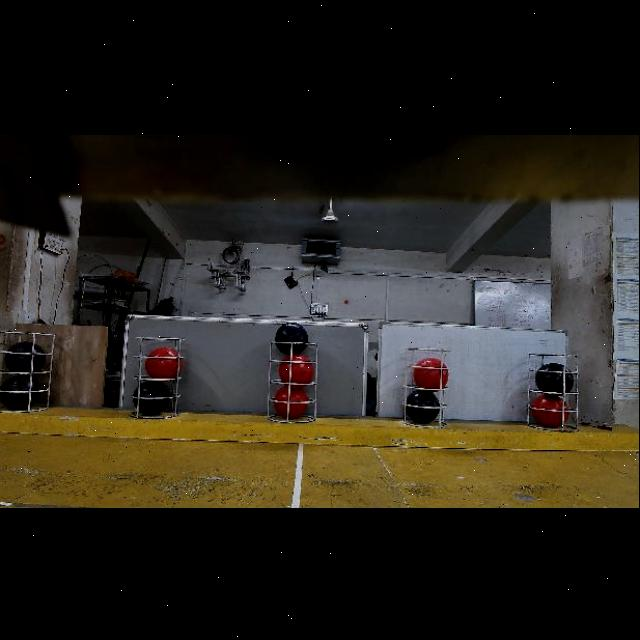P: (0, 374, 41, 411), (133, 379, 172, 416), (4, 341, 46, 373), (536, 363, 576, 393), (407, 390, 441, 424), (276, 321, 308, 354)
R: (532, 394, 571, 429), (414, 357, 450, 389), (145, 347, 182, 378), (278, 352, 314, 383), (275, 386, 308, 418)
S: (0, 330, 58, 408), (266, 341, 320, 422), (130, 338, 182, 422), (526, 354, 580, 430), (404, 346, 448, 429)
